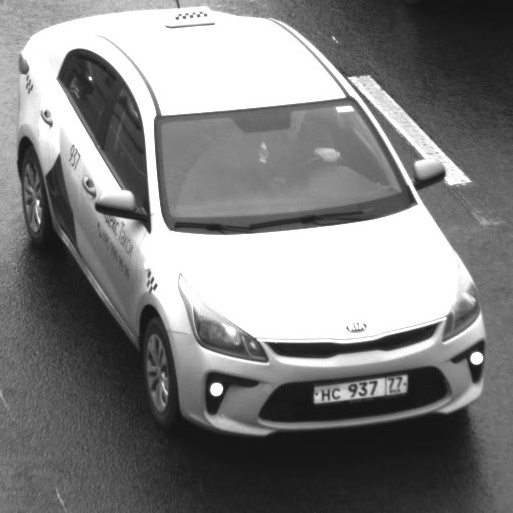plate: (300, 361, 418, 412)
